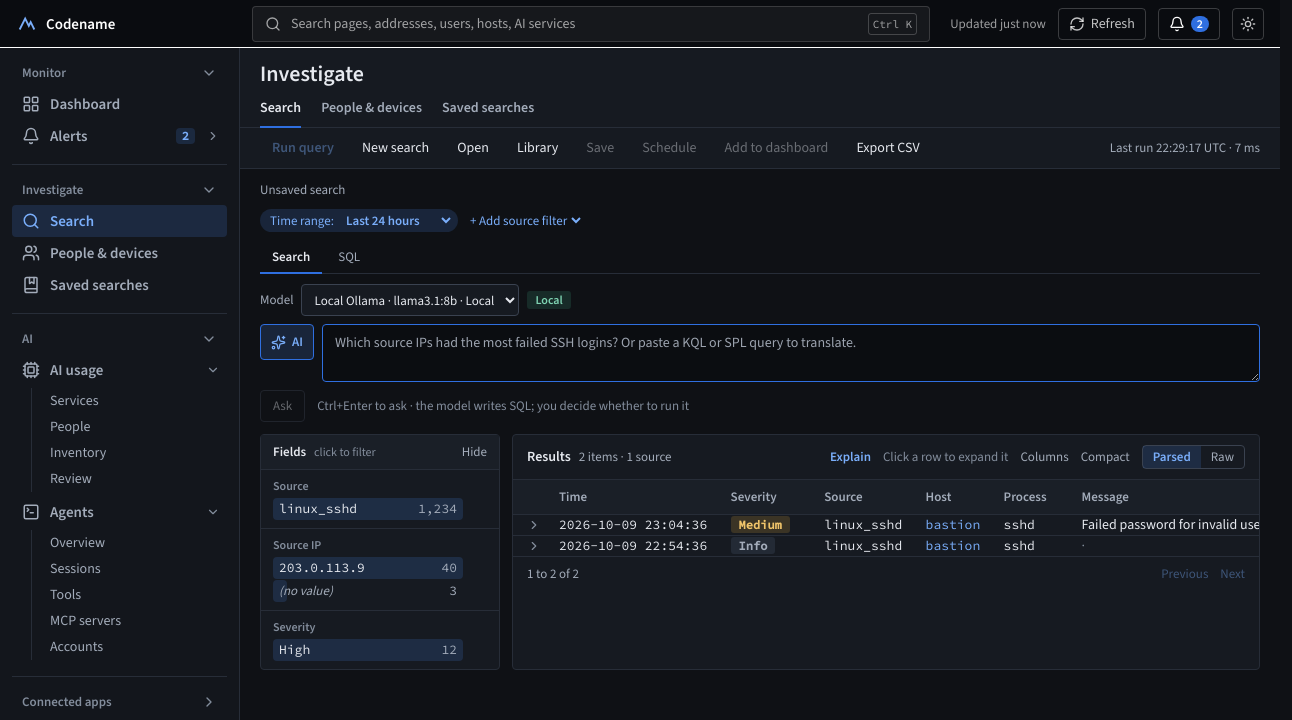
Test case: Simple search › has no AI switch for auditors, and /ask opens Search with it on otherwise
Expected: the tab "Search" is shown, left=260, top=242, right=322, bottom=274
Expected: the heading "Investigate" is shown, left=260, top=59, right=364, bottom=88
Switching it off goes back to Simple syntax.
Click the button with aria-label "Ask in plain English" at point(287, 342), box left=260, top=324, right=314, bottom=360
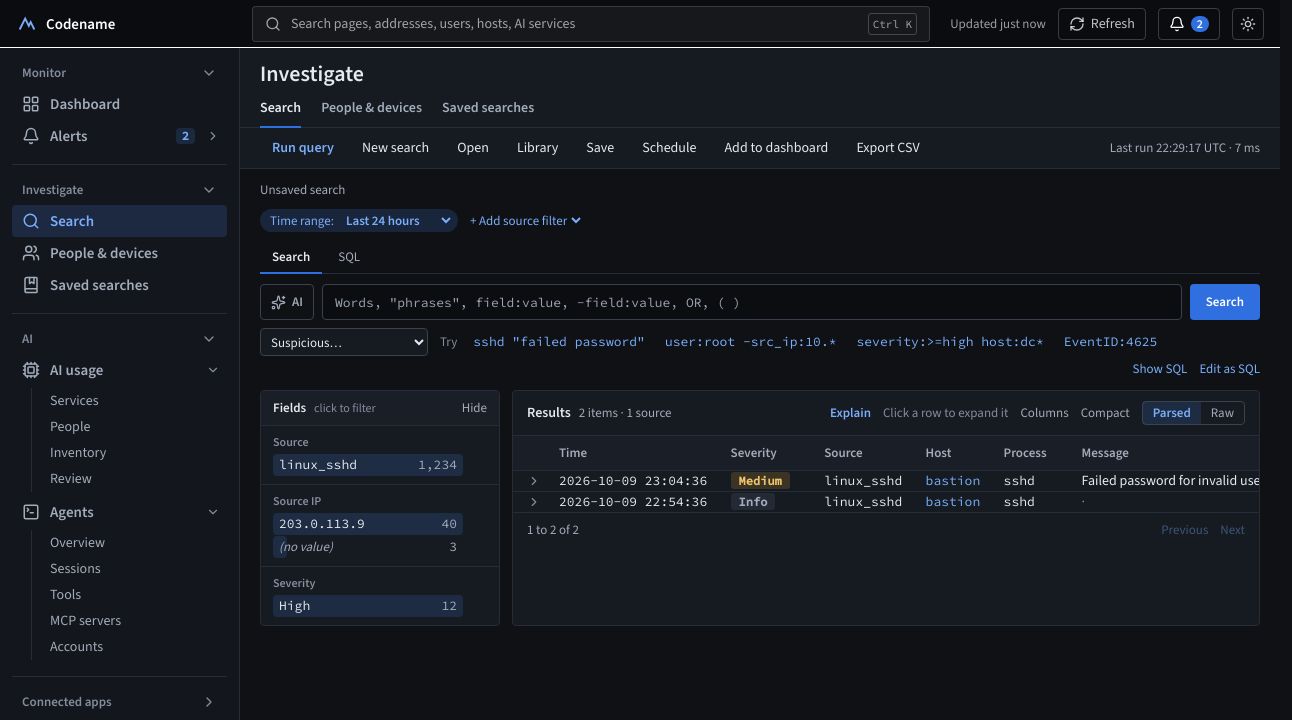
Result: the search field named "Search text" is shown at left=322, top=284, right=1182, bottom=320
